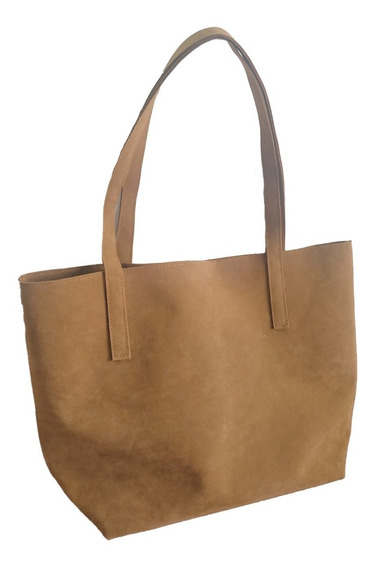cartera: (18, 25, 356, 540)
